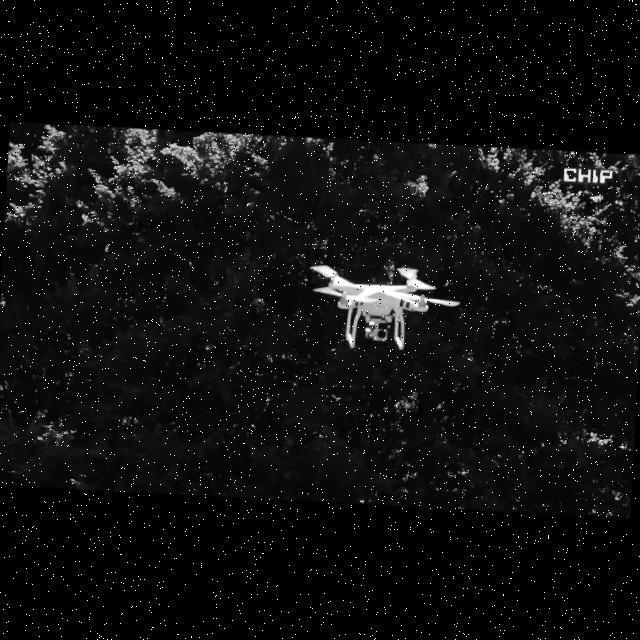Drons: (307, 262, 462, 354)
